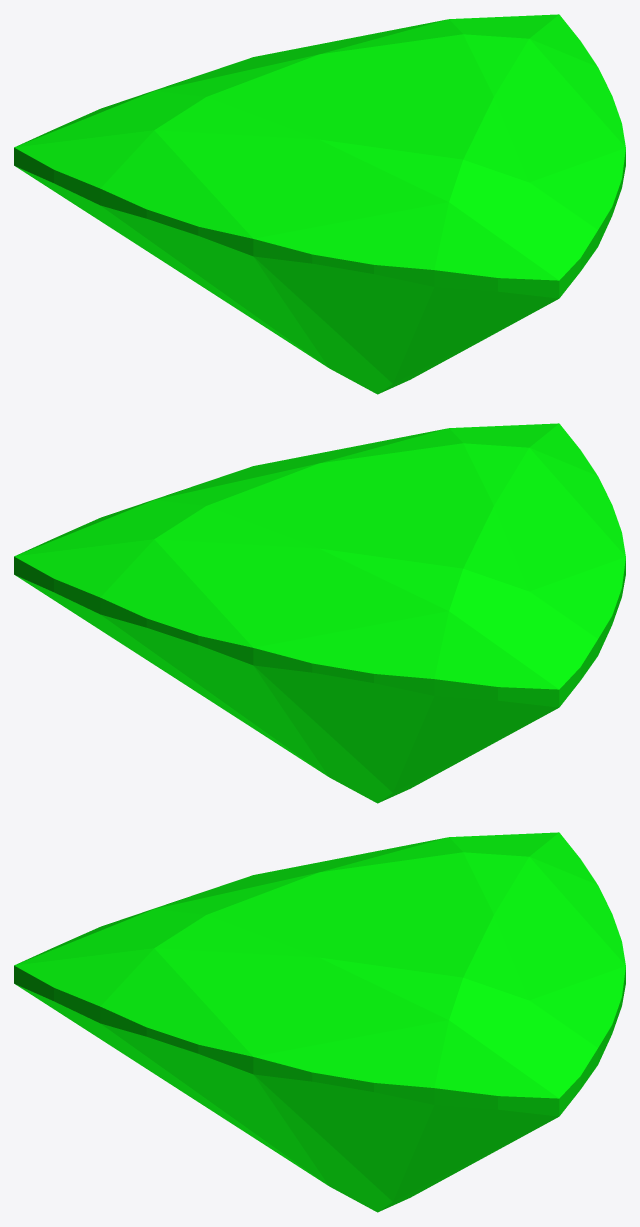
Rendered from Jewel05.fbx.
3 renders of one model, top to bottom at view 1: azimuth 30°, elevation 25°; view 2: azimuth 150°, elevation 25°; view 3: azimuth 270°, elevation 25°, orthographic.
Visible parts, largest first — view 1: Trillion.003; view 2: Trillion.003; view 3: Trillion.003.
Part boxes in pixels (x1,y1,x2,y2): Trillion.003: (14,14,625,394); Trillion.003: (14,423,625,803); Trillion.003: (14,832,625,1212).
Size of the model in its own units: 0.1029 by 0.0537 by 0.1.
